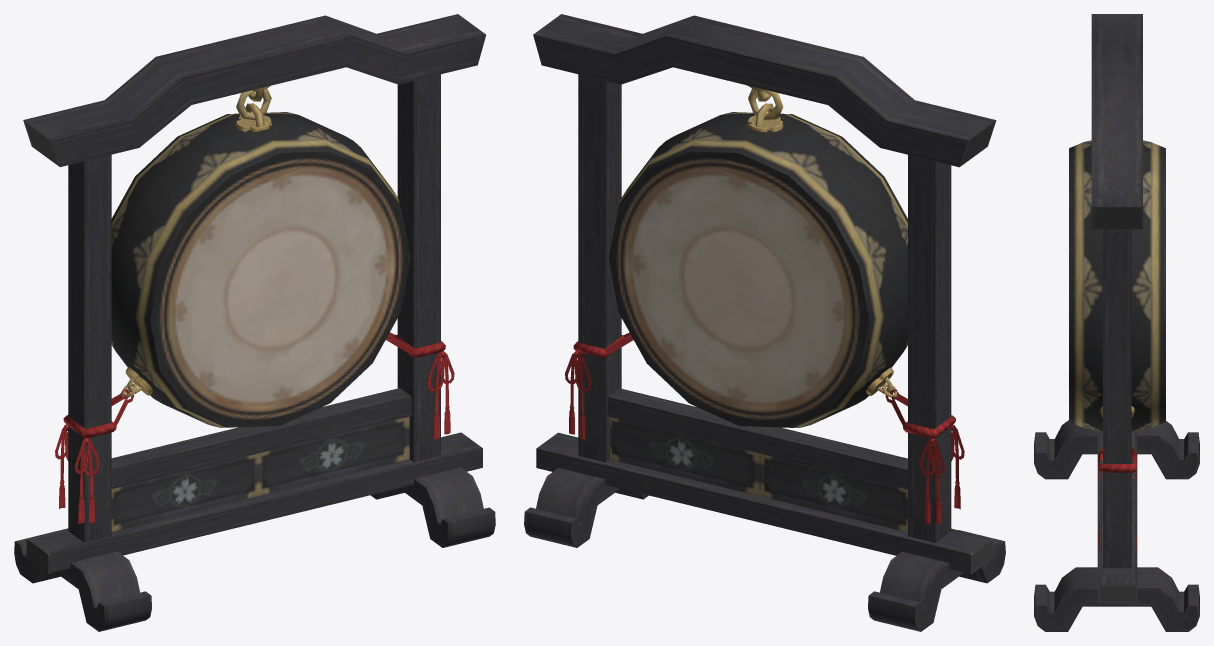
Rendered from Homeworld_Interior_Dq_Decoration_Drum_01_Vo.fbx.
3 renders of one model, left to right at view 1: azimuth 30°, elevation 25°; view 2: azimuth 150°, elevation 25°; view 3: azimuth 270°, elevation 25°, orthographic. The views are drawn at different scales.
Parts seen in each view (by area): view 1: Indoor_Dq_Prop_Comp_Drum_01_Vo; view 2: Indoor_Dq_Prop_Comp_Drum_01_Vo; view 3: Indoor_Dq_Prop_Comp_Drum_01_Vo.
Boxes of the visible parts, left/top/right/bottom form: Indoor_Dq_Prop_Comp_Drum_01_Vo: left=14, top=14, right=495, bottom=631; Indoor_Dq_Prop_Comp_Drum_01_Vo: left=524, top=14, right=1005, bottom=631; Indoor_Dq_Prop_Comp_Drum_01_Vo: left=1034, top=14, right=1199, bottom=631.
Bounding box in the file's own units: 1.46 × 1.63 × 0.528.
1 material, 1 textured.
